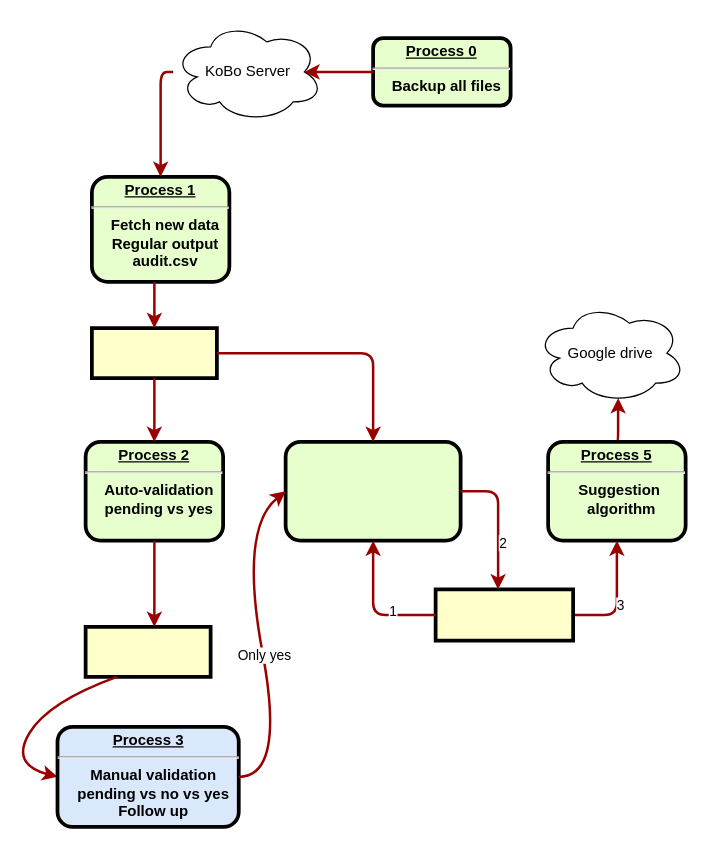
Some shapes in this 709 by 850 pixel diagram are drawn without their labels. Each missing label, with the centre of its shape:
Contact list.xlsx: point (503, 614)
Data monitoring.xlsx: point (147, 651)
Full dataset.xlsx: point (153, 352)
Process 4 Extract contact info Update contact list: point (372, 490)
